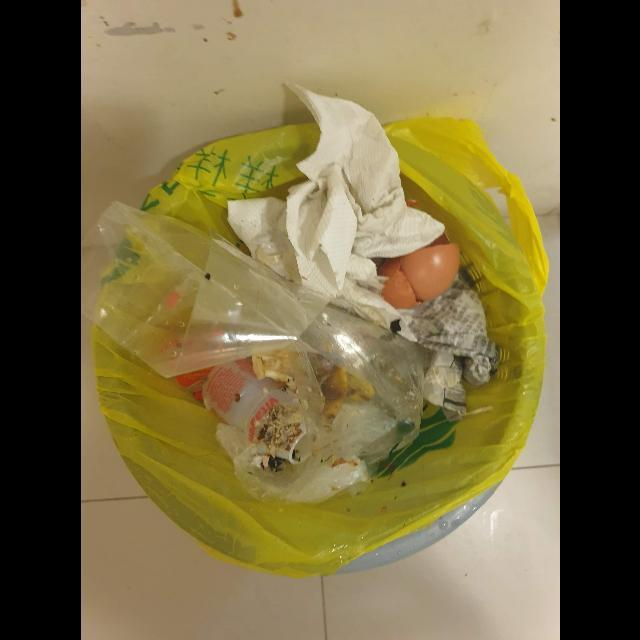biowaste: (377, 232, 461, 309)
paper: (226, 81, 445, 341)
plastic: (81, 200, 426, 451)
